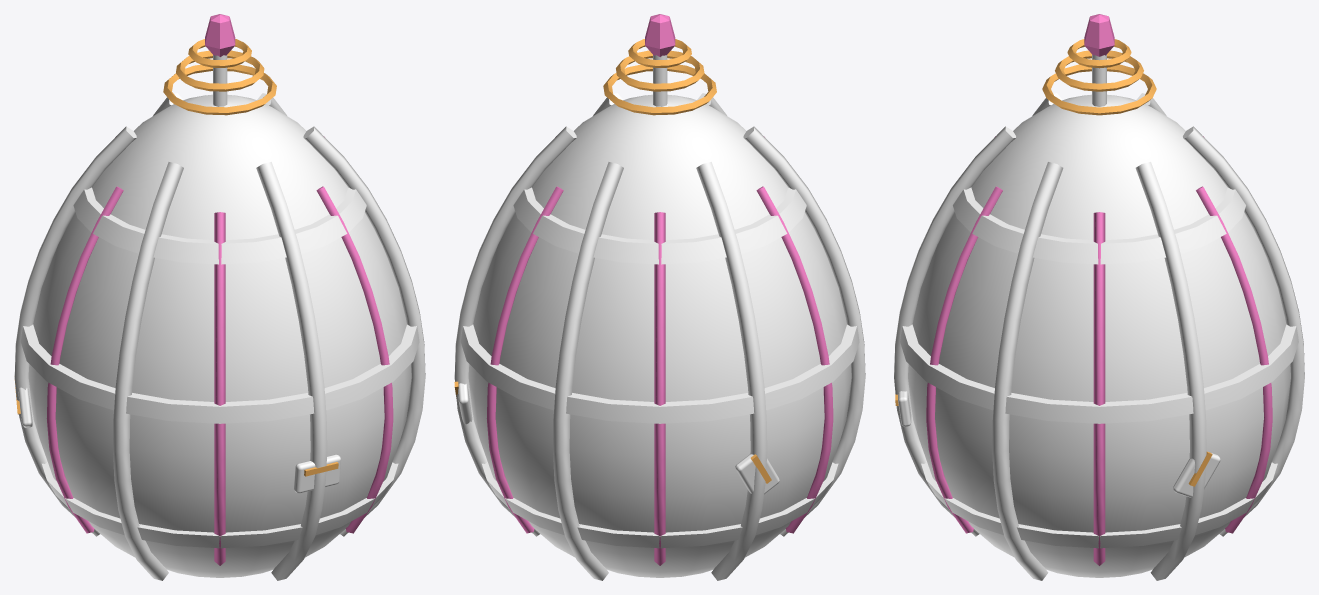
File: CoreEgg.glb
The picture shows the model from 3 angles, left to right: view 1: azimuth 30°, elevation 25°; view 2: azimuth 150°, elevation 25°; view 3: azimuth 270°, elevation 25°; orthographic projection.
Parts seen in each view (by area): view 1: Shell, Band, Glow, Heat; view 2: Shell, Band, Glow, Heat; view 3: Shell, Band, Glow, Heat.
Part boxes in pixels (left/top/right/bottom): Shell: left=28, top=94, right=411, bottom=577; Band: left=14, top=55, right=425, bottom=580; Glow: left=46, top=14, right=393, bottom=565; Heat: left=14, top=39, right=338, bottom=476; Shell: left=468, top=94, right=851, bottom=577; Band: left=454, top=55, right=865, bottom=580; Glow: left=486, top=14, right=833, bottom=565; Heat: left=454, top=39, right=771, bottom=483; Shell: left=908, top=94, right=1290, bottom=577; Band: left=894, top=54, right=1304, bottom=580; Glow: left=926, top=14, right=1272, bottom=565; Heat: left=895, top=39, right=1212, bottom=486.
Bounding box in the file's own units: 3.18 × 4.77 × 3.26.
